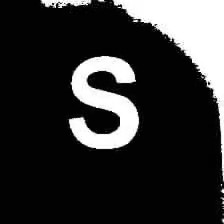LTR_S: (63, 50, 142, 155)
